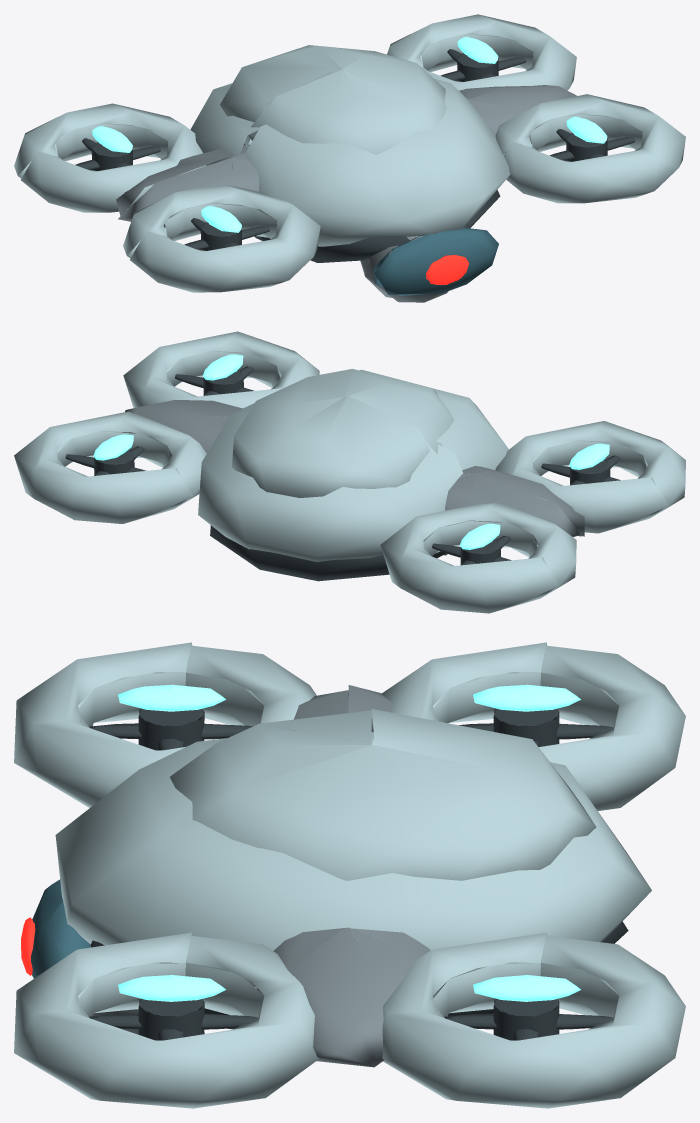
The model's file is recon-drone-lod.glb.
3 renders of one model, top to bottom at view 1: azimuth 30°, elevation 25°; view 2: azimuth 150°, elevation 25°; view 3: azimuth 270°, elevation 25°, orthographic. The views are drawn at different scales.
Visible parts, largest first — view 1: Seamless ceramic shell, Dorsal armor, Polished enclosed fan, Polished enclosed fan.002, Polished enclosed fan.001, Polished enclosed fan.003, Obsidian optical visor, Swept fan pylon, Swept fan pylon.001, Underbody sensor band, Tracking eye, Gimbal housing (+8 smaller); view 2: Dorsal armor, Seamless ceramic shell, Polished enclosed fan.001, Polished enclosed fan.003, Polished enclosed fan, Polished enclosed fan.002, Swept fan pylon, Underbody sensor band, Swept fan pylon.001, Running light, Running light.001, Running light.002 (+5 smaller); view 3: Seamless ceramic shell, Dorsal armor, Polished enclosed fan.003, Polished enclosed fan.002, Polished enclosed fan, Polished enclosed fan.001, Swept fan pylon.001, Obsidian optical visor, Duct motor.002, Duct motor.003, Running light.002, Running light (+9 smaller).
Part boxes in pixels (<box>): Seamless ceramic shell: <box>190,68,510,246</box>; Dorsal armor: <box>220,45,446,155</box>; Polished enclosed fan: <box>123,185,320,292</box>; Polished enclosed fan.002: <box>495,94,685,203</box>; Polished enclosed fan.001: <box>14,103,206,212</box>; Polished enclosed fan.003: <box>387,14,576,102</box>; Obsidian optical visor: <box>374,227,498,295</box>; Swept fan pylon: <box>116,144,258,227</box>; Swept fan pylon.001: <box>459,85,576,152</box>; Underbody sensor band: <box>238,143,500,262</box>; Tracking eye: <box>426,255,469,284</box>; Gimbal housing: <box>360,236,448,302</box>; Dorsal armor: <box>232,369,454,497</box>; Seamless ceramic shell: <box>198,369,508,561</box>; Polished enclosed fan.001: <box>380,503,576,613</box>; Polished enclosed fan.003: <box>14,411,206,523</box>; Polished enclosed fan: <box>495,421,685,533</box>; Polished enclosed fan.002: <box>123,331,319,416</box>; Swept fan pylon: <box>445,466,584,544</box>; Underbody sensor band: <box>210,525,447,581</box>; Swept fan pylon.001: <box>122,400,242,457</box>; Running light: <box>569,443,609,469</box>; Running light.001: <box>460,523,500,549</box>; Running light.002: <box>203,354,243,380</box>; Seamless ceramic shell: <box>55,731,651,986</box>; Dorsal armor: <box>169,709,596,880</box>; Polished enclosed fan.003: <box>382,932,685,1108</box>; Polished enclosed fan.002: <box>14,932,319,1108</box>; Polished enclosed fan: <box>14,642,316,807</box>; Polished enclosed fan.001: <box>381,642,685,810</box>; Swept fan pylon.001: <box>256,927,445,1067</box>; Obsidian optical visor: <box>31,879,90,978</box>; Duct motor.002: <box>138,998,204,1040</box>; Duct motor.003: <box>493,998,559,1040</box>; Running light.002: <box>118,975,225,1001</box>; Running light: <box>118,684,225,711</box>.
Size of the model in its own units: 2.61 by 0.8438 by 1.74.
